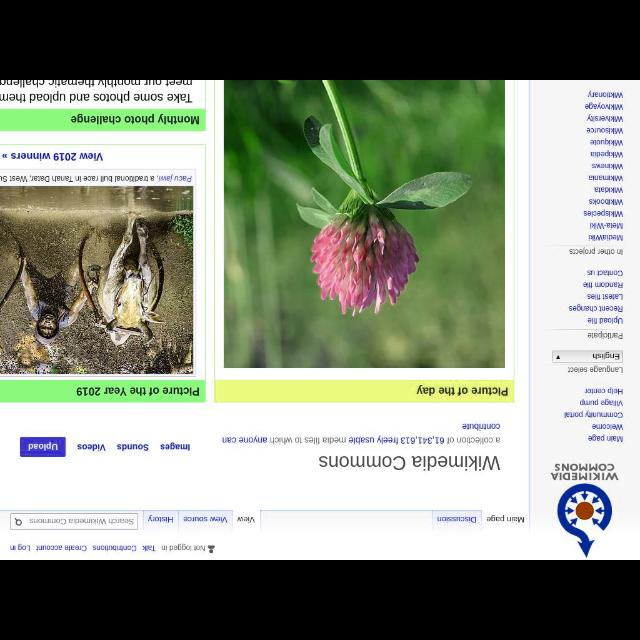icon: (207, 544, 220, 556), (15, 516, 22, 528)
image: (224, 80, 506, 368), (1, 188, 196, 376), (550, 464, 616, 558)
input: (12, 514, 136, 528)
multitab: (15, 432, 199, 458), (10, 544, 224, 558)
spinner: (554, 351, 624, 362)
text: (4, 80, 194, 106), (318, 451, 502, 472), (222, 435, 500, 443), (3, 173, 190, 183), (76, 386, 200, 396), (416, 386, 509, 398), (72, 115, 200, 123), (2, 152, 104, 162), (29, 518, 133, 524), (566, 366, 626, 374), (586, 126, 624, 138), (568, 305, 624, 313), (580, 398, 624, 408), (587, 232, 623, 244), (591, 148, 621, 162), (591, 160, 625, 172), (488, 514, 524, 524), (436, 514, 480, 522), (92, 544, 136, 552), (564, 412, 622, 418), (586, 115, 624, 124), (590, 138, 624, 148), (587, 174, 623, 183), (583, 281, 623, 289), (582, 210, 622, 218), (571, 249, 623, 255), (34, 545, 86, 551), (586, 91, 624, 99), (462, 423, 500, 431), (584, 198, 624, 205), (588, 220, 622, 228), (590, 187, 624, 195), (182, 515, 226, 521), (162, 545, 205, 551), (590, 435, 622, 443), (161, 442, 193, 450), (118, 444, 150, 452), (584, 388, 624, 394), (587, 318, 625, 324), (584, 293, 622, 299), (586, 269, 624, 275), (586, 104, 624, 110), (592, 424, 624, 430), (77, 443, 105, 449), (237, 516, 255, 524), (144, 516, 172, 520), (142, 544, 156, 552), (11, 546, 27, 552), (583, 334, 627, 336)
textbutton: (20, 437, 64, 457)
